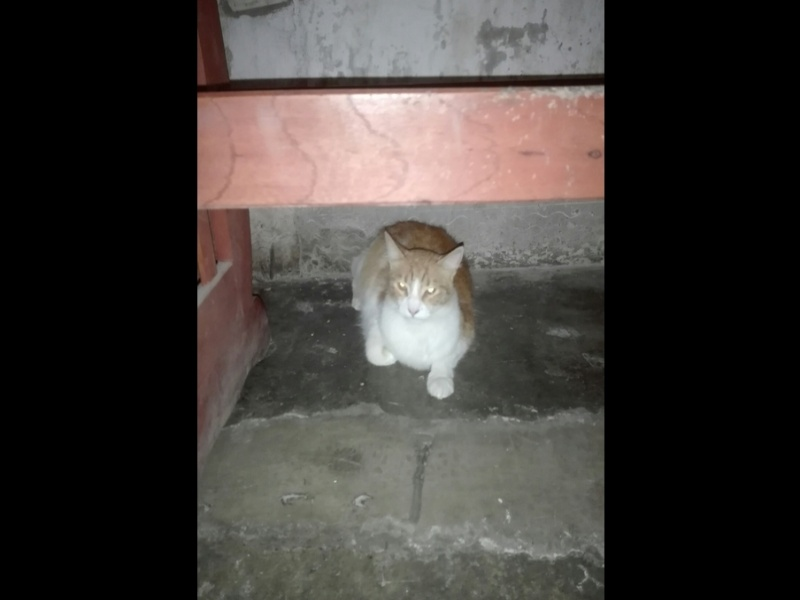cat: (345, 219, 478, 402)
